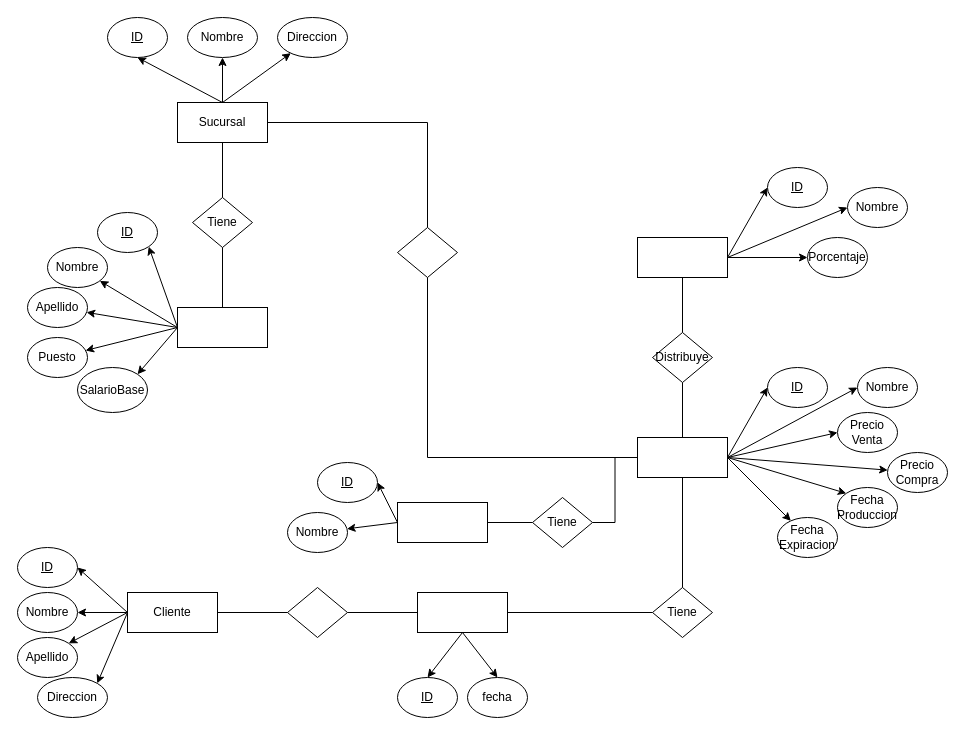
The diagram is 965 pixels wide and 735 high, and some of its shapes have lost their labels. The shapes that lost their labels are listed below. From the top down, each one's centre as x and y in pixels, then its label:
At point (427, 252): "Vende".
At point (682, 257): "Proveedor".
At point (222, 327): "Empleado".
At point (682, 457): "Producto".
At point (442, 522): "CategoriaProd".
At point (317, 612): "Hacen".
At point (462, 612): "Compra".
